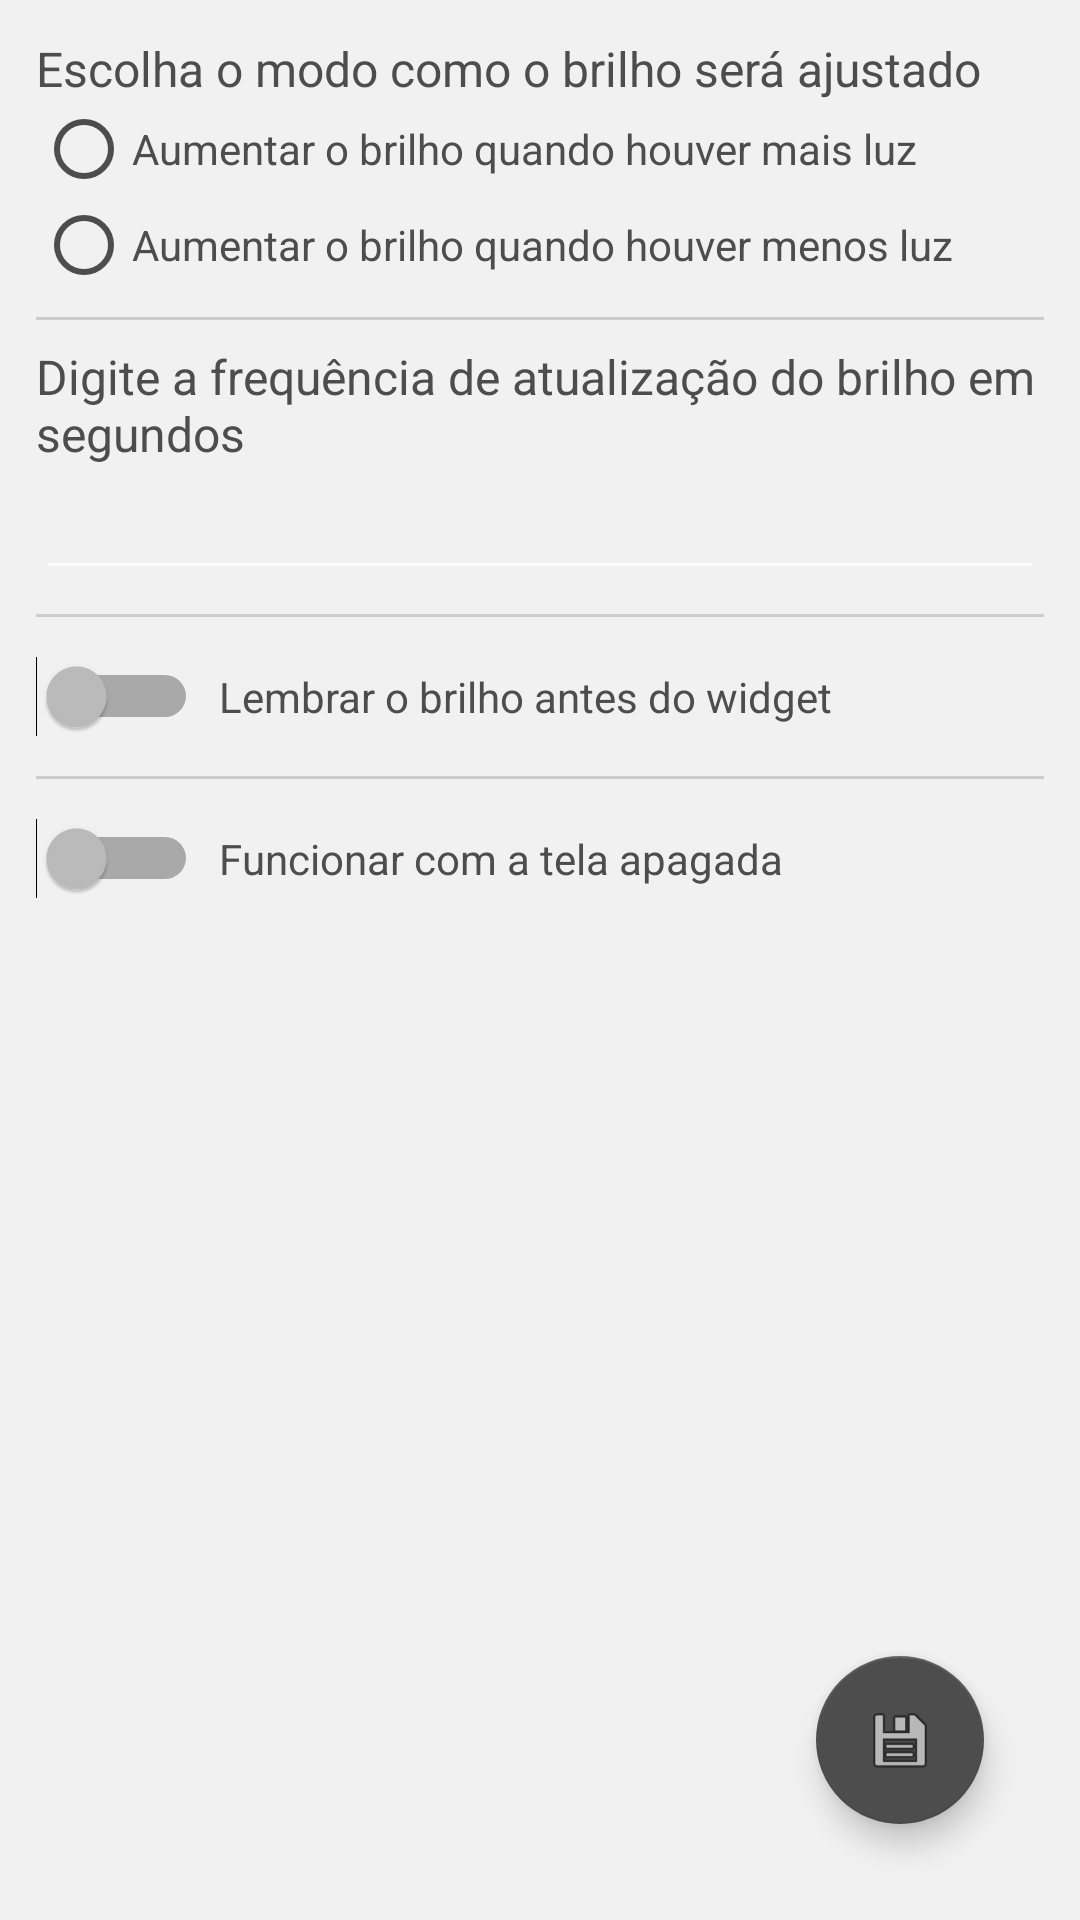

Point at icon controls on the screen. Image size 1080*1920, points as (x,y).
save: (900,1740)
